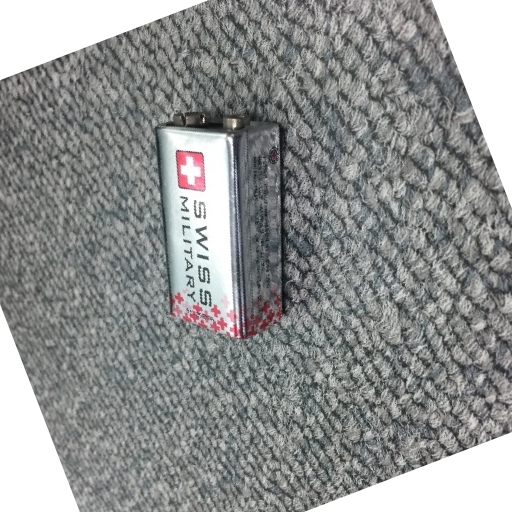Battery_3: (146, 79, 312, 361)
